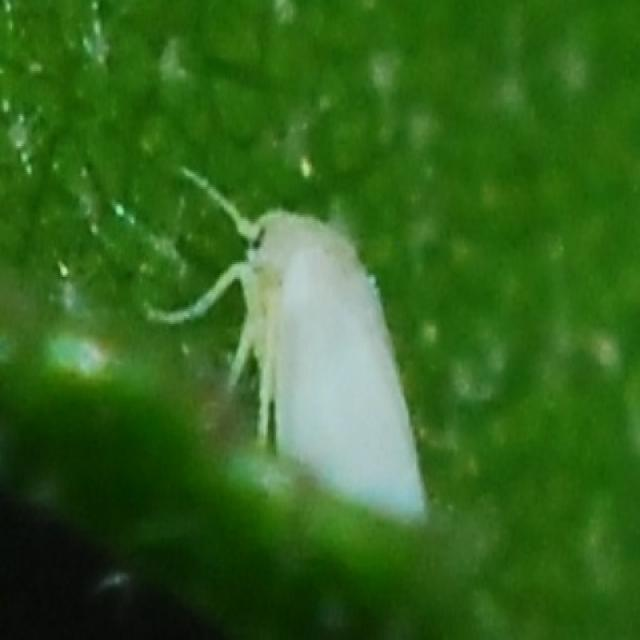Whitefly: (135, 163, 429, 526)
